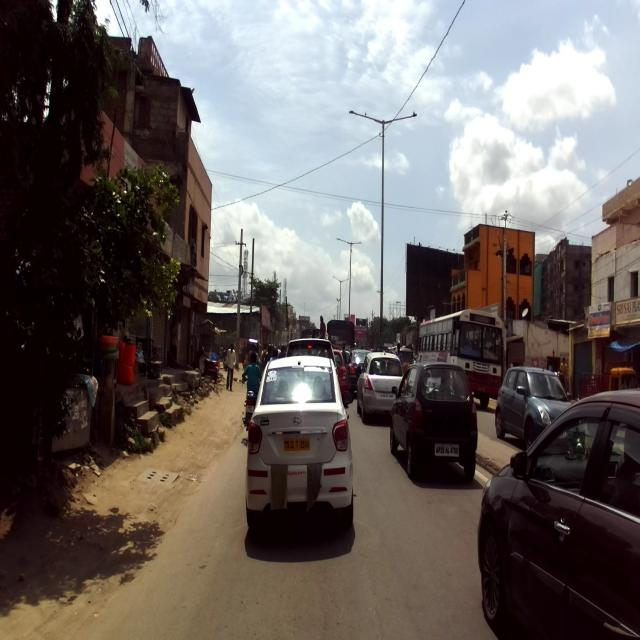Car_Hyundai: (245, 354, 353, 530)
Car_Maruti-Suzuki: (476, 389, 640, 639), (389, 361, 478, 479), (494, 366, 572, 449)
